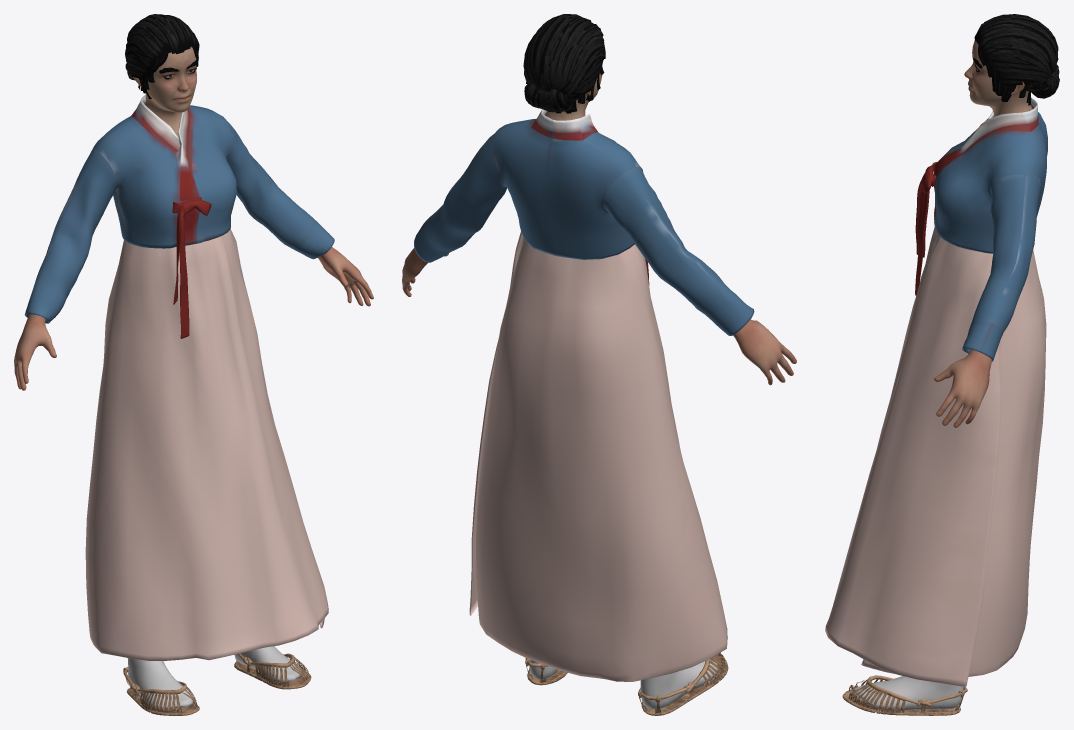
The model's file is jumo.fbx.
The picture shows the model from 3 angles, left to right: view 1: azimuth 30°, elevation 25°; view 2: azimuth 150°, elevation 25°; view 3: azimuth 270°, elevation 25°; orthographic projection. The views are drawn at different scales.
Parts seen in each view (by area): view 1: NPC_Jumo_Mesh_0; view 2: NPC_Jumo_Mesh_0; view 3: NPC_Jumo_Mesh_0.
Part boxes in pixels (x1=…): NPC_Jumo_Mesh_0: x1=14, y1=14, x2=373, y2=715; NPC_Jumo_Mesh_0: x1=402, y1=14, x2=796, y2=715; NPC_Jumo_Mesh_0: x1=825, y1=14, x2=1059, y2=715.
Bounding box in the file's own units: 98.14 × 172 × 54.76.
Materials: 2 (2 with a texture image).
